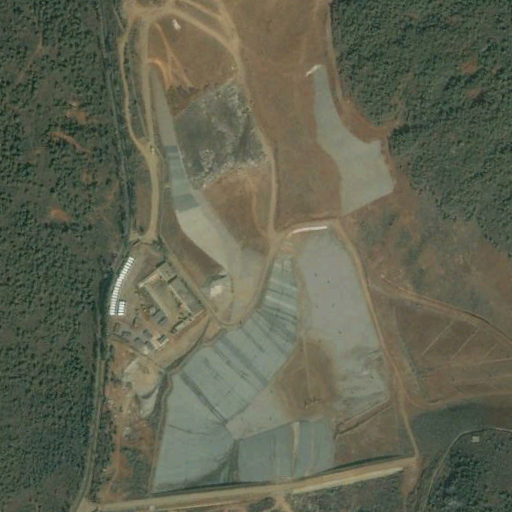lf: (144, 62, 400, 494)
